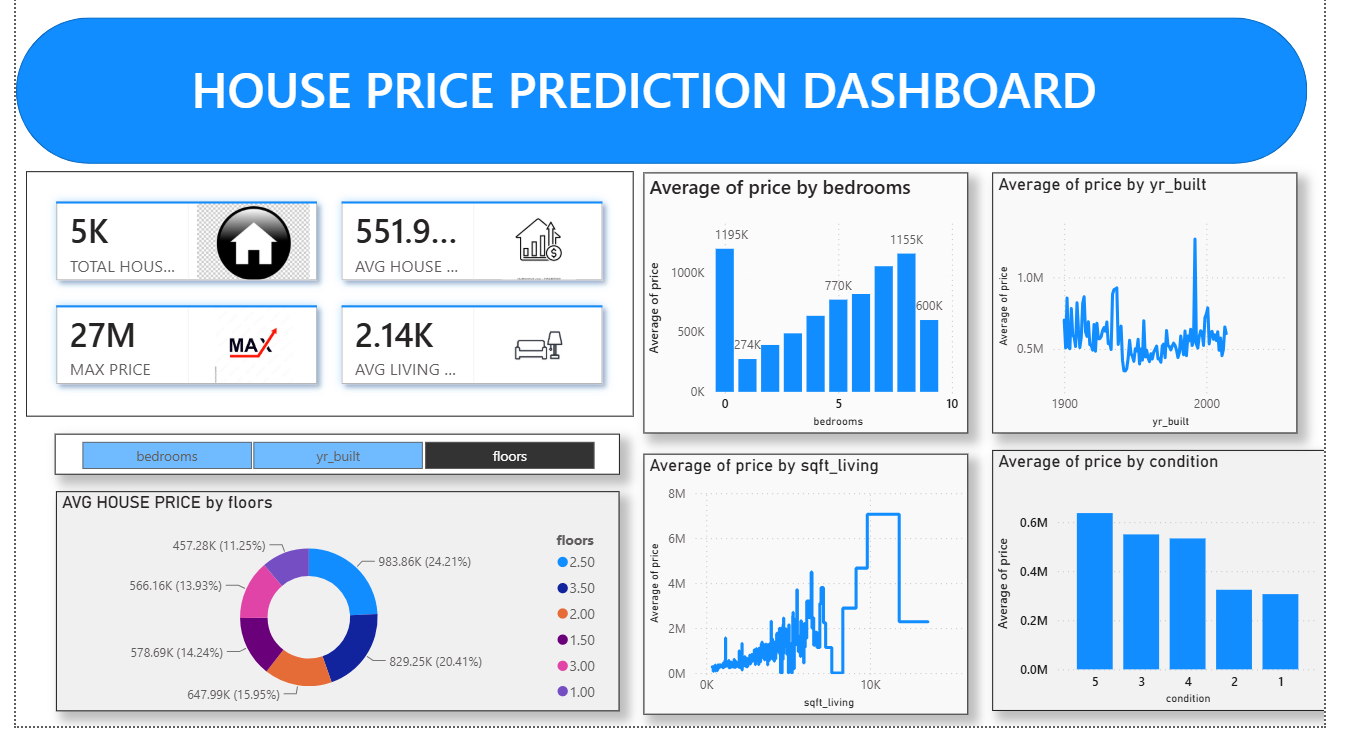

What the dashboard file says about the page in this screenshot:
{"tool":"powerbi","page":{"name":"Page 1","canvas":[1280,720],"ordinal":0},"visuals":[{"type":"textbox","box":[10,0,280,280],"z":0},{"type":"cardVisual","fields":{"Data":["modified_data.TOTAL HOUSES","modified_data.AVG HOUSE PRICE","modified_data.MAX PRICE","modified_data.AVG LIVING AREA"]},"box":[9.8,177.3,594.3,239.7],"z":1000},{"type":"clusteredColumnChart","fields":{"Category":["modified_data.bedrooms"],"Y":["Avg(modified_data.price)"]},"box":[613.9,178.5,317.9,255.6],"z":2000},{"type":"lineChart","fields":{"Category":["modified_data.sqft_living"],"Y":["Avg(modified_data.price)"]},"box":[613.9,453.7,317.9,255.6],"z":3000},{"type":"clusteredColumnChart","fields":{"Category":["modified_data.condition"],"Y":["Avg(modified_data.price)"]},"box":[955,450,325.3,255.6],"z":4000},{"type":"lineChart","fields":{"Category":["modified_data.yr_built"],"Y":["Avg(modified_data.price)"]},"box":[955,178.5,298.4,255.6],"z":5000},{"type":"slicer","fields":{"Values":["Sri.Sri"]},"box":[37.9,434.1,552.7,40.4],"z":6000},{"type":"donutChart","fields":{"Category":["modified_data.floors"],"Y":["modified_data.AVG HOUSE PRICE"]},"box":[39.1,490.4,551.5,215.2],"z":7000},{"type":"shape","box":[0,26.9,1263.2,143.1],"z":8000},{"type":"textbox","box":[39.1,58.7,1150.7,80.7],"z":9000}]}

Visuals, with their boxes in screenshot pixels (x1, y1, x2, y2):
textbox: region(18, 0, 310, 279)
cardVisual - modified_data.TOTAL HOUSES x modified_data.AVG HOUSE PRICE: region(17, 171, 639, 422)
clusteredColumnChart - modified_data.bedrooms x Avg(modified_data.price): region(649, 173, 981, 440)
lineChart - modified_data.sqft_living x Avg(modified_data.price): region(649, 460, 981, 728)
clusteredColumnChart - modified_data.condition x Avg(modified_data.price): region(1006, 456, 1346, 724)
lineChart - modified_data.yr_built x Avg(modified_data.price): region(1006, 173, 1318, 440)
slicer - Sri.Sri: region(47, 440, 625, 482)
donutChart - modified_data.floors x modified_data.AVG HOUSE PRICE: region(48, 499, 625, 724)
shape: region(7, 14, 1328, 164)
textbox: region(48, 47, 1251, 132)
